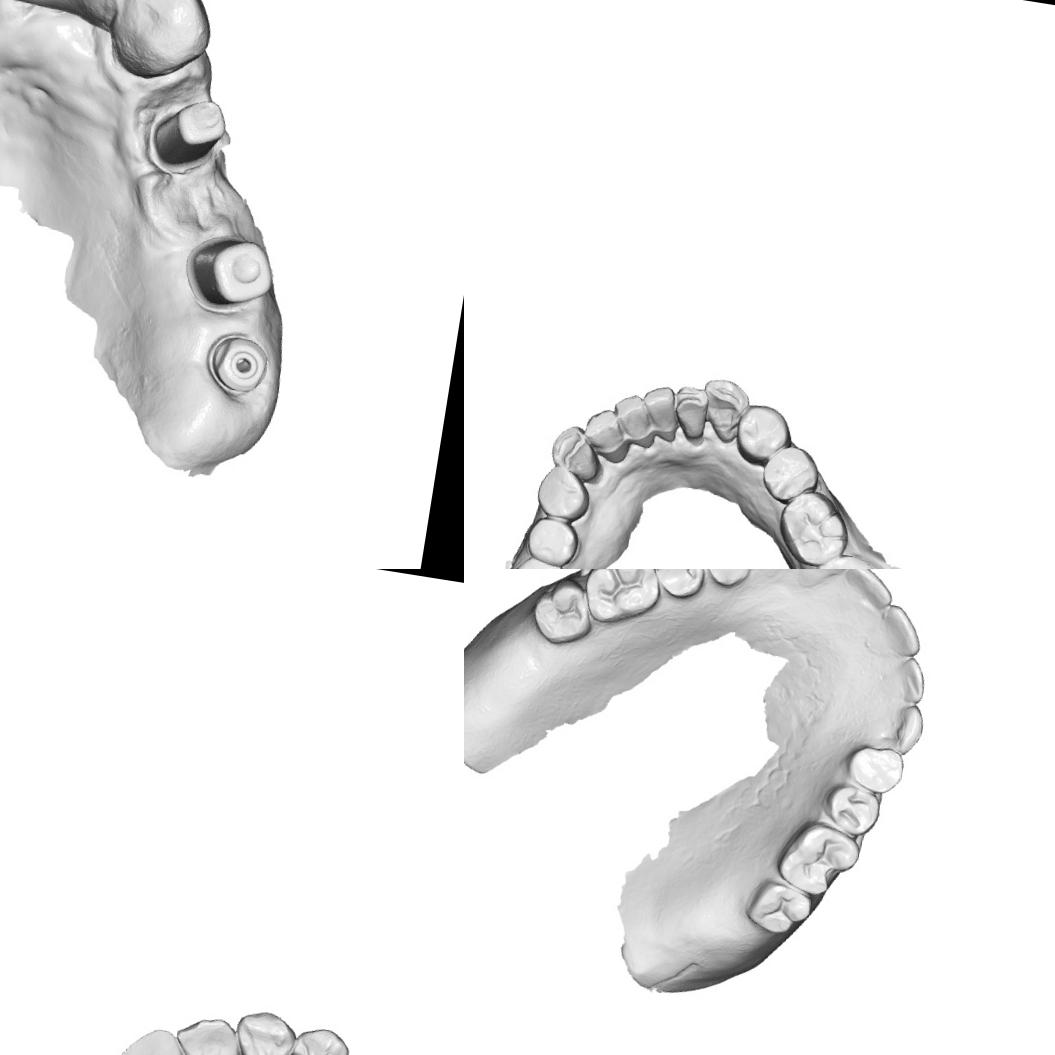abutment: (182, 229, 280, 319), (148, 89, 234, 174)
canine: (107, 0, 221, 77), (695, 374, 752, 444), (546, 421, 606, 484), (224, 1006, 300, 1055), (884, 701, 928, 753)
implant: (201, 330, 273, 401)
incisor: (167, 1011, 247, 1055), (576, 404, 632, 462), (106, 1021, 196, 1055), (606, 390, 660, 446), (666, 382, 716, 442), (635, 381, 684, 442), (876, 604, 929, 660), (842, 569, 895, 610), (895, 658, 932, 708), (799, 569, 850, 581)
molar: (771, 816, 864, 902), (774, 486, 854, 569), (526, 574, 599, 650), (578, 569, 666, 630), (744, 878, 815, 940), (805, 549, 901, 569)
premolar: (756, 438, 824, 507), (730, 402, 796, 470), (533, 464, 595, 527), (842, 742, 910, 799), (821, 782, 883, 840), (524, 513, 578, 569), (278, 1023, 353, 1055), (646, 569, 710, 601), (698, 569, 755, 589)
